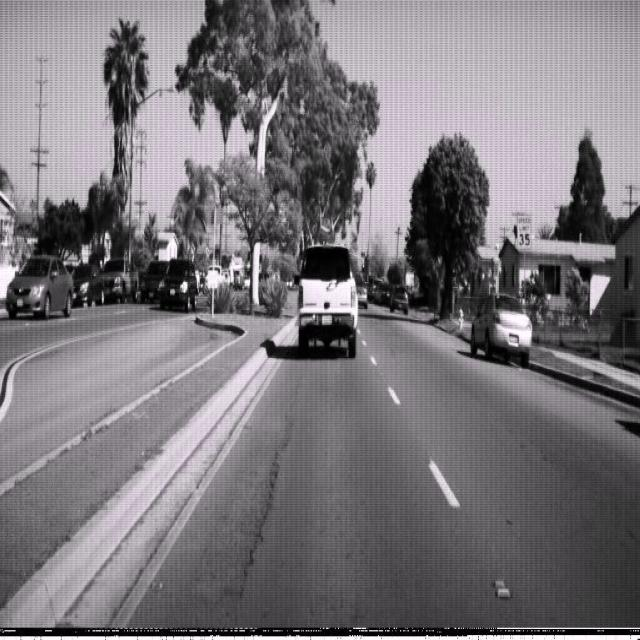speedLimit35: (516, 210, 532, 251)
